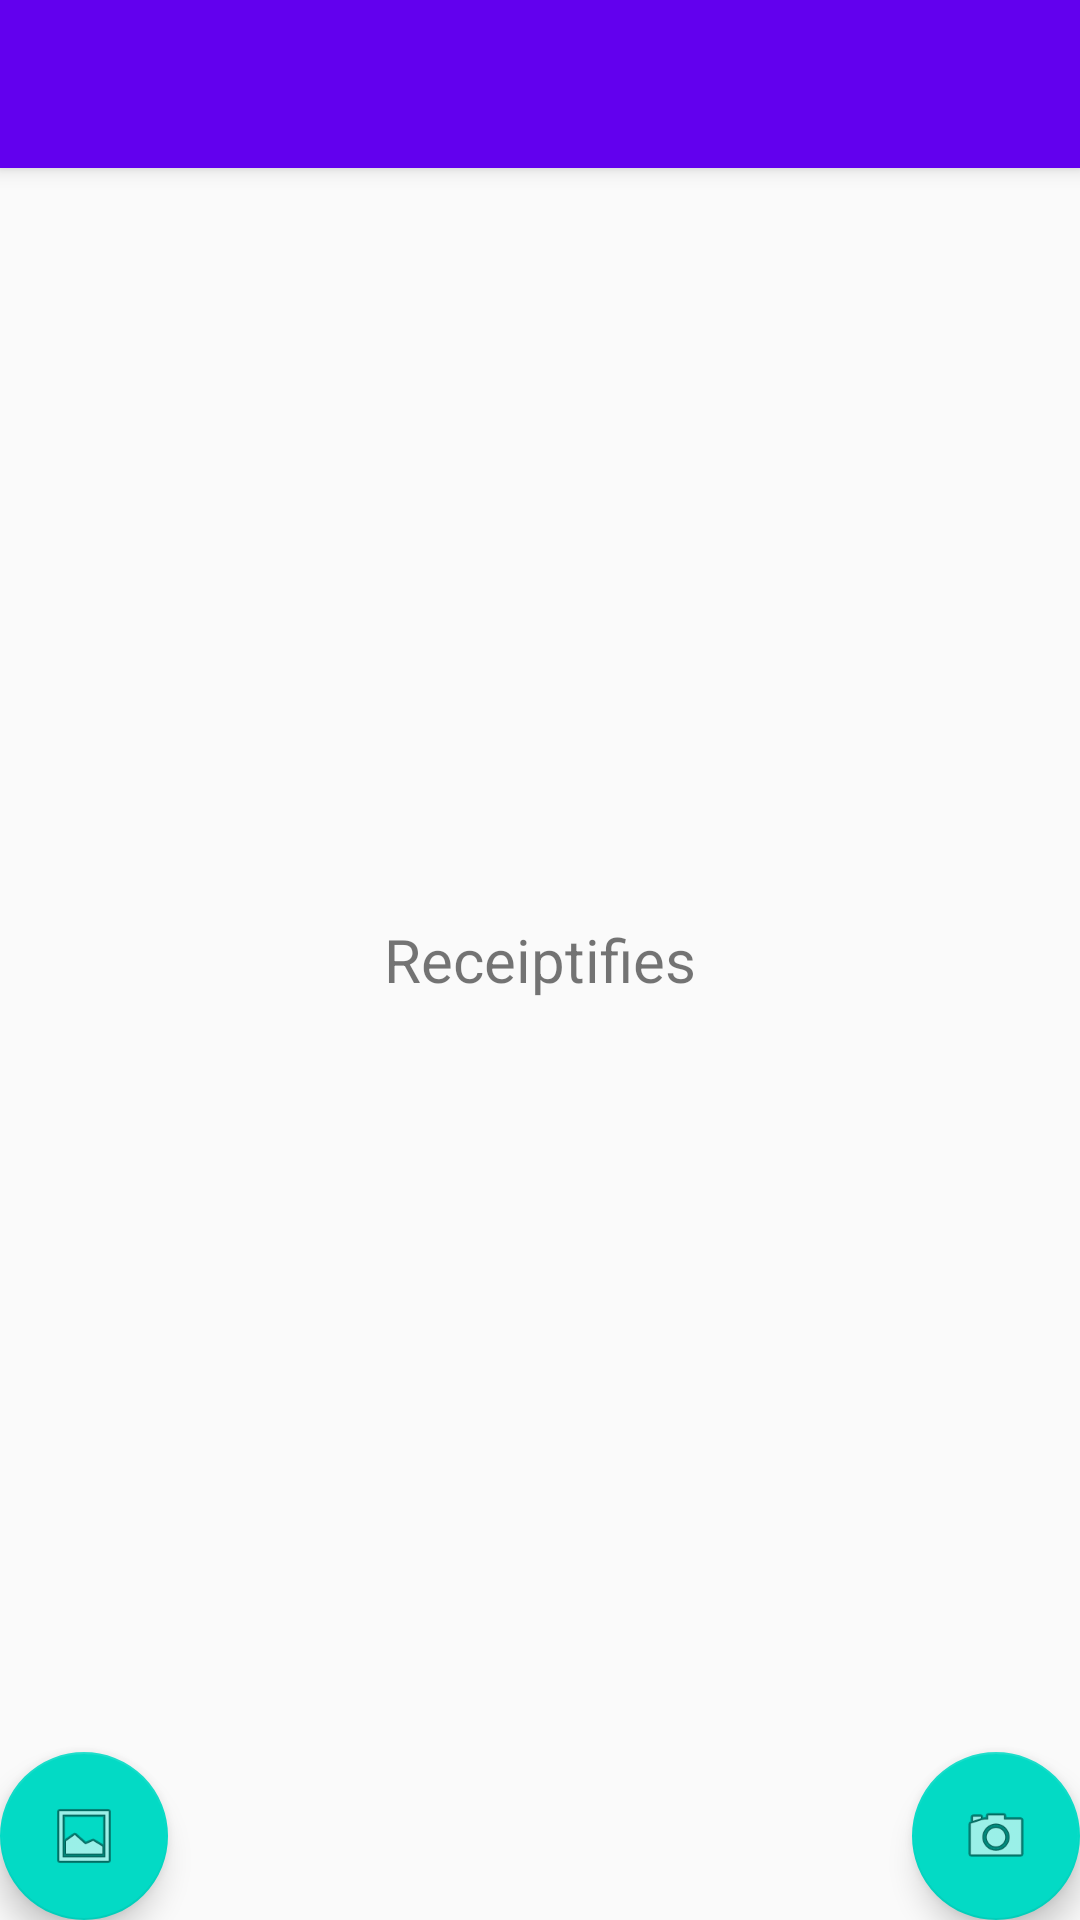

Screen size 1080w x 1920h. Icon name, then its box in pixels as (x1, y1, x2, y2):
camera: (912, 1752, 1080, 1920)
gallery: (0, 1752, 168, 1920)
